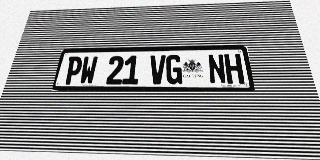1: (122, 55, 140, 84)
2: (106, 56, 124, 84)
G: (166, 55, 182, 84)
H: (224, 54, 245, 84)
N: (207, 54, 227, 84)
P: (63, 56, 83, 85)
V: (149, 55, 166, 84)
W: (79, 56, 98, 84)
